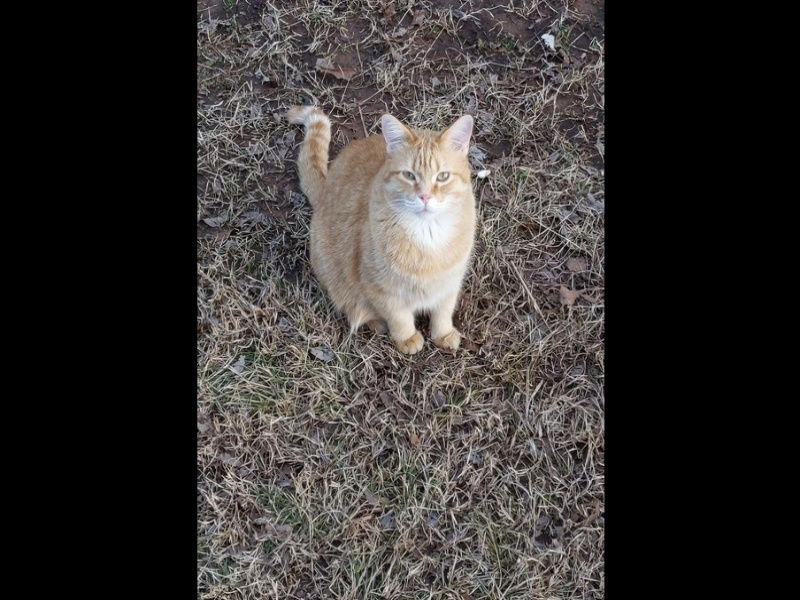cat: (285, 98, 482, 357)
